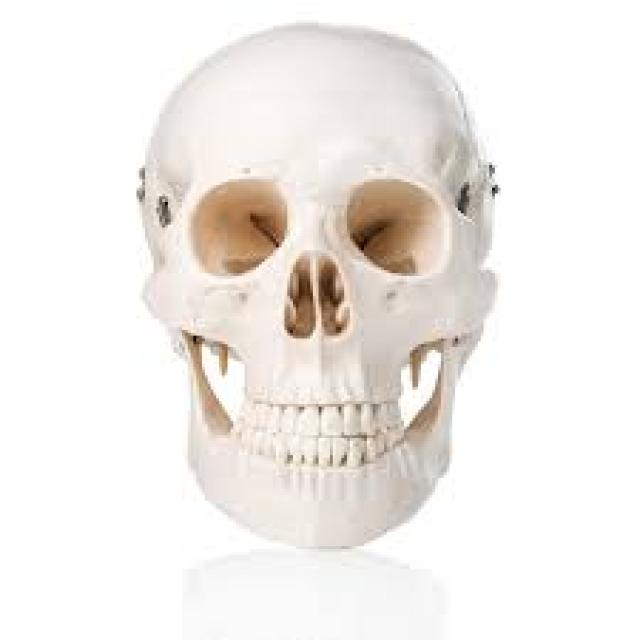skull: (125, 13, 522, 558)
